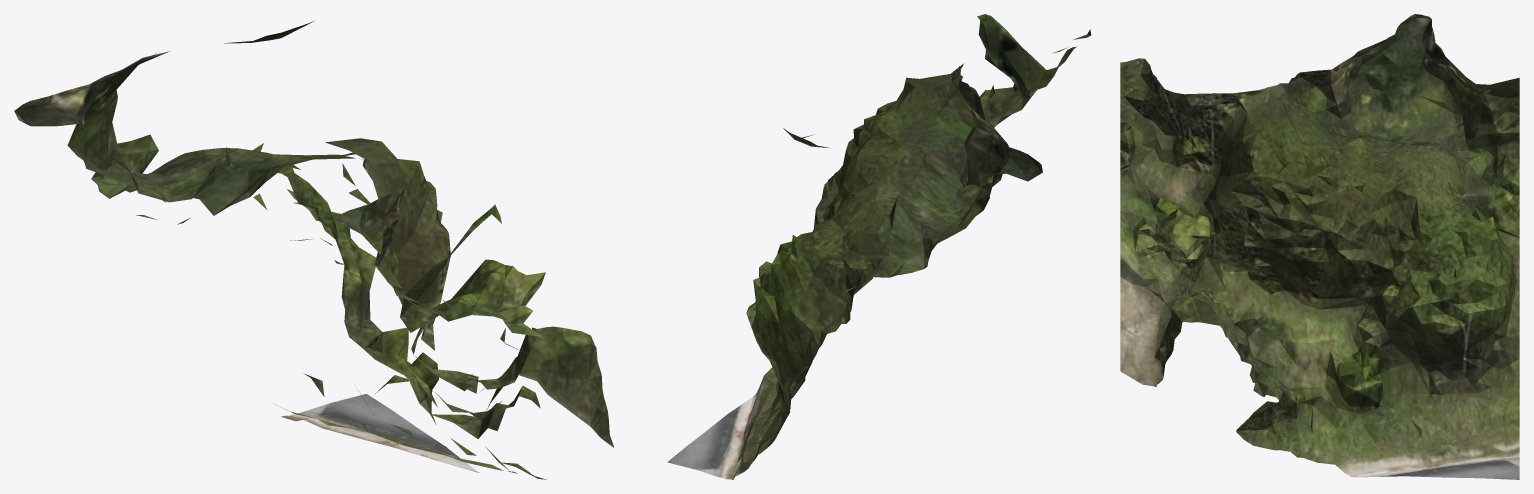
3 renders of one model, left to right at view 1: azimuth 30°, elevation 25°; view 2: azimuth 150°, elevation 25°; view 3: azimuth 270°, elevation 25°, orthographic. The views are drawn at different scales.
Size of the model in its own units: 10.44 by 10.44 by 11.8.
Materials: 4 (4 with a texture image).
